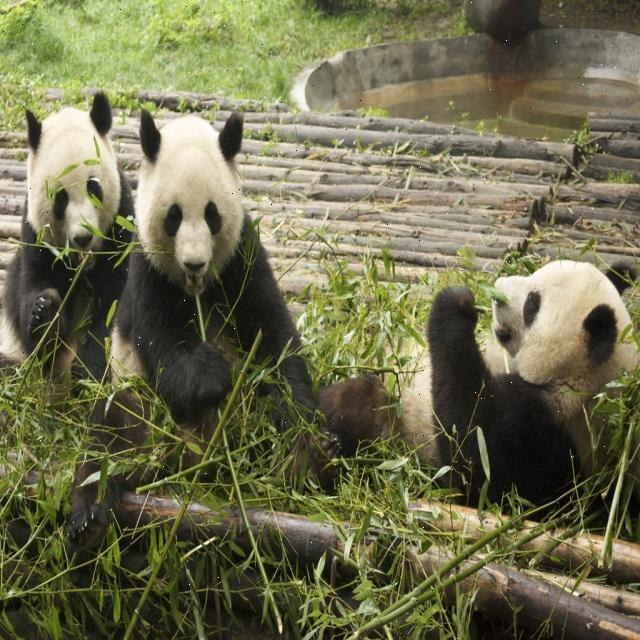panda: (62, 102, 345, 563), (317, 253, 639, 523), (0, 92, 138, 388)
